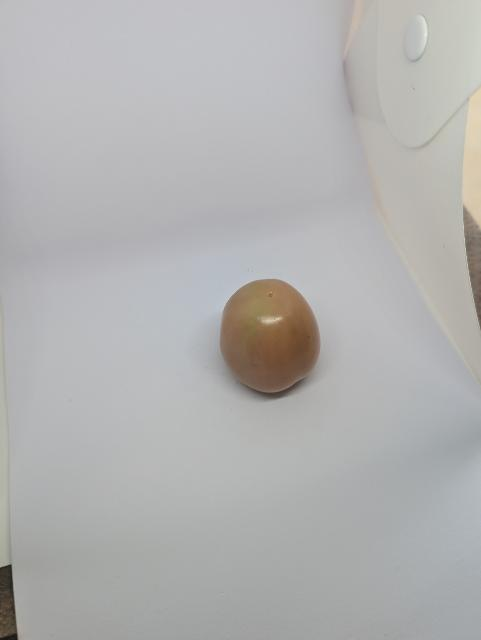turning: (214, 269, 331, 405)
